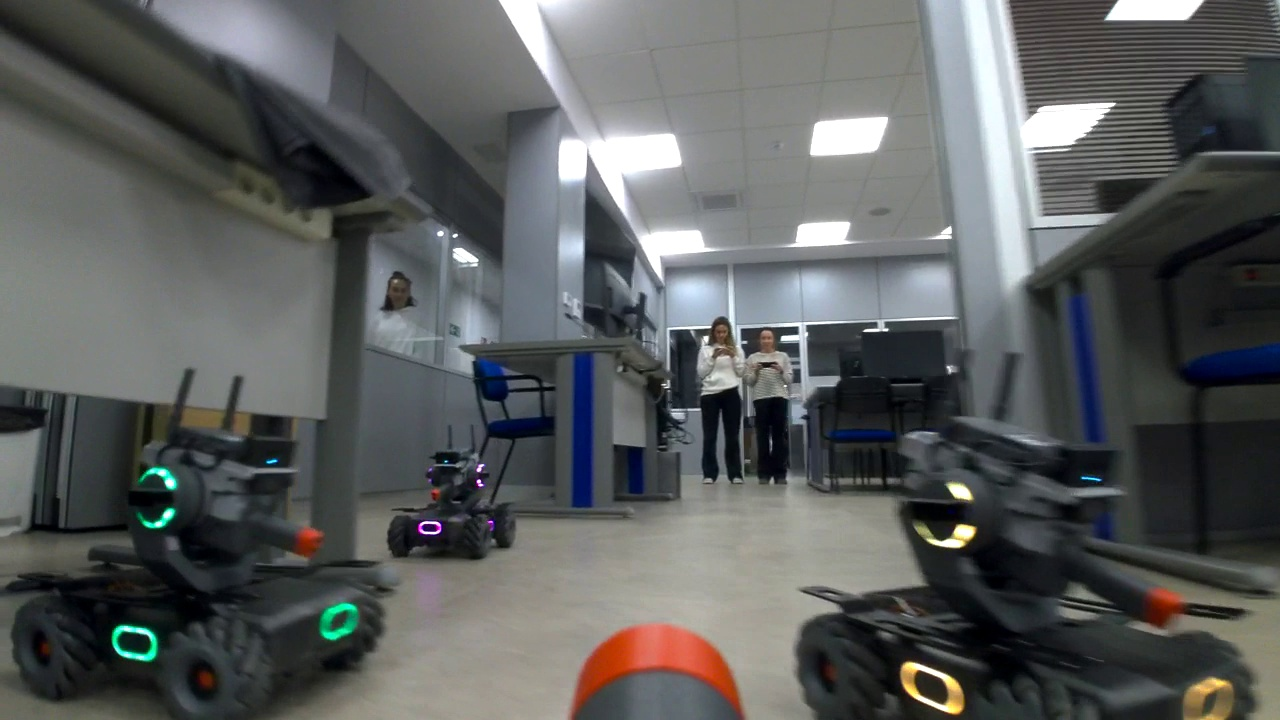robot: (796, 417, 1263, 713), (9, 427, 389, 715), (384, 448, 516, 561)
